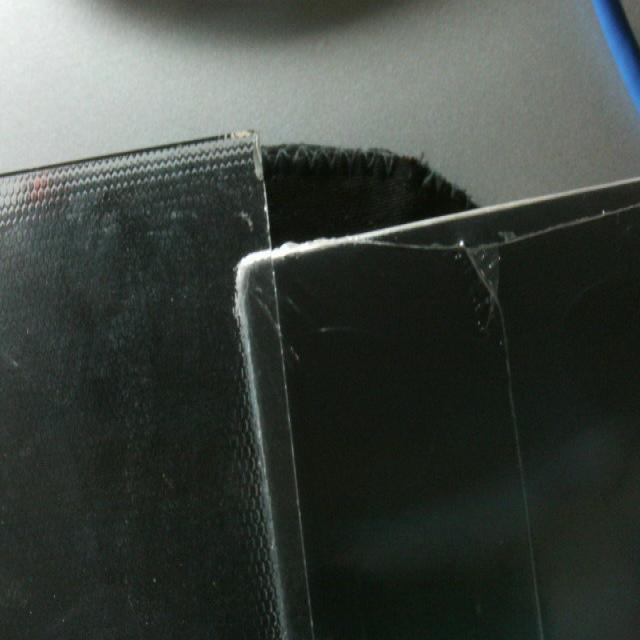edge_chip: (221, 120, 271, 190)
